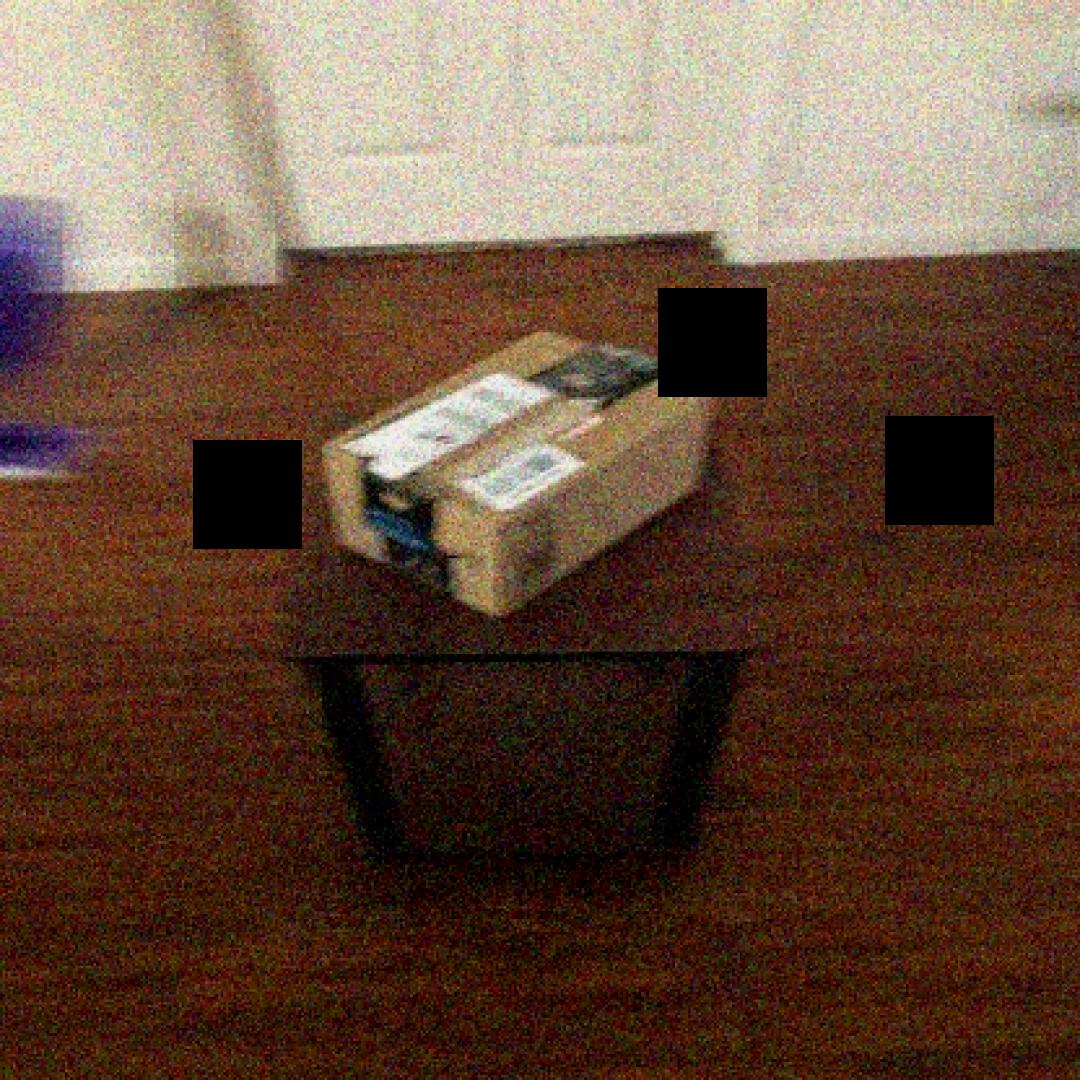package: (278, 316, 746, 638)
